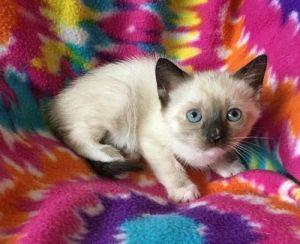siamese: (154, 45, 271, 166)
